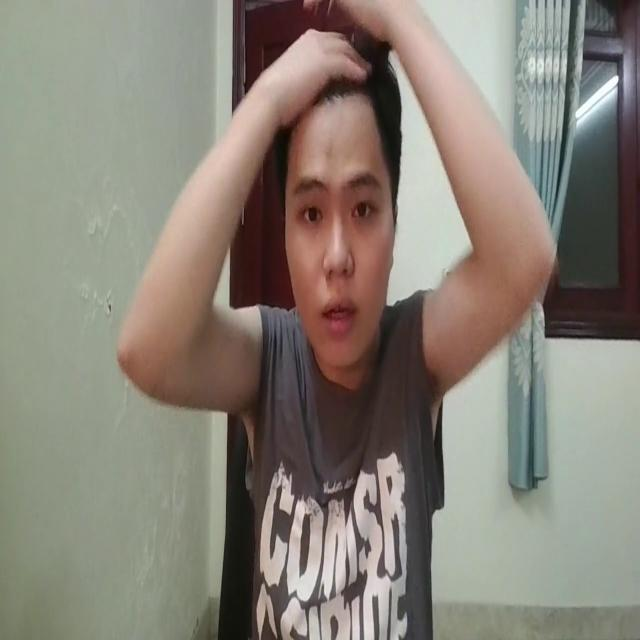student: (105, 3, 554, 640)
